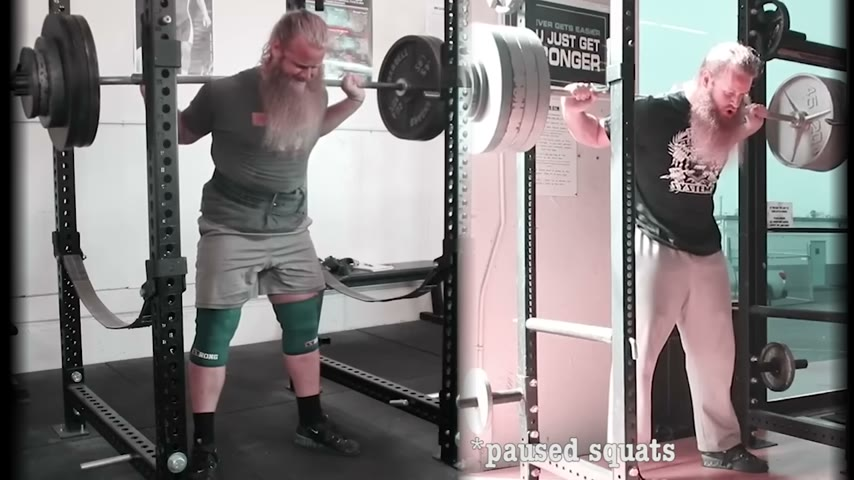barbell_plate_side: (2, 9, 107, 155)
